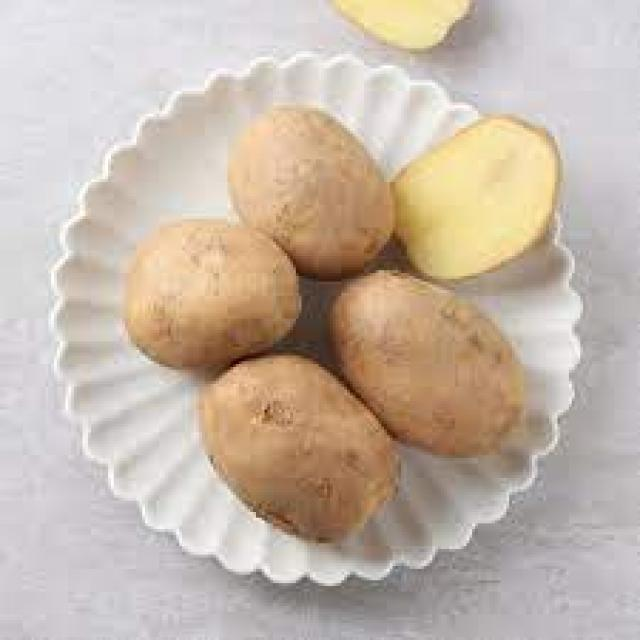Potato: (333, 273, 526, 457), (230, 108, 393, 282), (125, 222, 302, 368)
